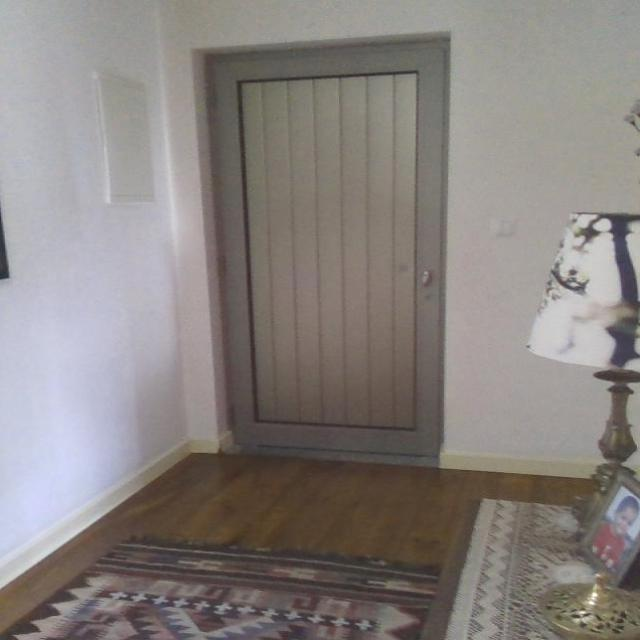door: (201, 49, 450, 462)
